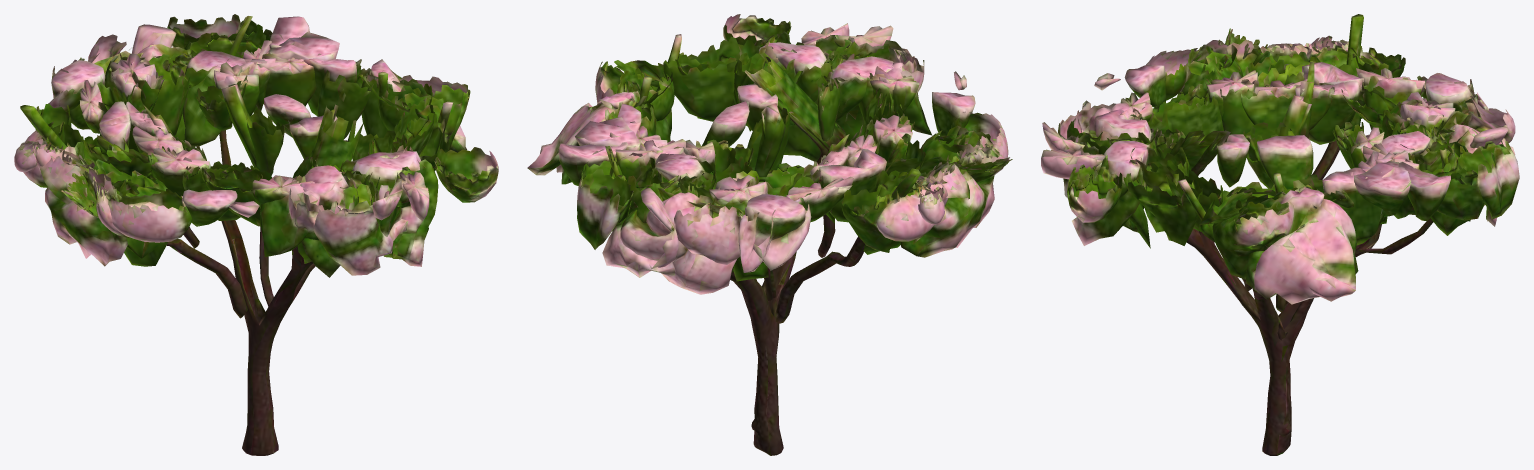
The model's file is crepemyrtle.glb.
3 renders of one model, left to right at view 1: azimuth 30°, elevation 25°; view 2: azimuth 150°, elevation 25°; view 3: azimuth 270°, elevation 25°, orthographic. The views are drawn at different scales.
Size of the model in its own units: 1.66 by 1.33 by 1.66.
Materials: 1 (1 with a texture image).
